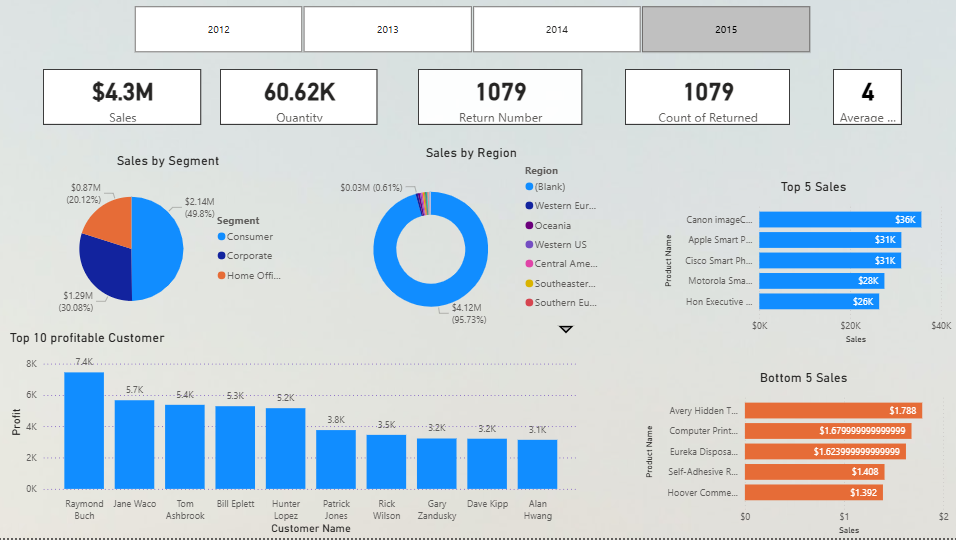

The page's visual inventory and layout, read from the dashboard file:
{"tool":"powerbi","page":{"name":"Page 1","canvas":[1280,720],"ordinal":0},"visuals":[{"type":"card","fields":{"Values":["Sum(Orders.Sales)"]},"box":[70.5,105.8,207.2,73.5],"z":0},{"type":"card","fields":{"Values":["Sum(Orders.Quantity)"]},"box":[302.7,105.8,205.7,73.5],"z":1000},{"type":"card","fields":{"Values":["Avg(Orders.Delivery Day)"]},"box":[1105,105.8,89.6,73.5],"z":2000},{"type":"card","fields":{"Values":["Sum(Returns.Return Number)"]},"box":[561.3,105.8,214.5,73.5],"z":3000},{"type":"card","fields":{"Values":["CountNonNull(Returns.Returned)"]},"box":[833.1,105.8,216,73.5],"z":4000},{"type":"slicer","fields":{"Values":["Orders.Order Date.2"]},"box":[164.6,16.8,934,73.9],"z":5000},{"type":"clusteredBarChart","title":"Top 5 Sales","fields":{"Category":["Orders.Product Name"],"Y":["Sum(Orders.Sales)"]},"box":[878,250,402,220],"z":7000},{"type":"clusteredBarChart","title":"Bottom 5 Sales","fields":{"Y":["Sum(Orders.Sales)"],"Category":["Orders.Product Name"]},"box":[854,500,426,220],"z":8000},{"type":"pieChart","fields":{"Category":["Orders.Segment"],"Y":["Sum(Orders.Sales)"]},"box":[70,216,330,232],"z":9000},{"type":"donutChart","fields":{"Category":["People.Region"],"Y":["Sum(Orders.Sales)"]},"box":[450,206,362,254],"z":10000},{"type":"clusteredColumnChart","title":"Top 10 profitable Customer","fields":{"Category":["Orders.Customer Name"],"Y":["Sum(Orders.Profit)"]},"box":[22,448,754,272],"z":11000}]}

Visuals, with their boxes in screenshot pixels (x1, y1, x2, y2), scaled from the page's 1280x720 canvas onto the 956x540 screenshot:
card - Sum(Orders.Sales): [53,79,207,134]
card - Sum(Orders.Quantity): [226,79,380,134]
card - Avg(Orders.Delivery Day): [825,79,892,134]
card - Sum(Returns.Return Number): [419,79,579,134]
card - CountNonNull(Returns.Returned): [622,79,784,134]
slicer - Orders.Order Date.2: [123,13,821,68]
"Top 5 Sales" clusteredBarChart: [656,188,955,352]
"Bottom 5 Sales" clusteredBarChart: [638,375,955,539]
pieChart - Orders.Segment x Sum(Orders.Sales): [52,162,299,336]
donutChart - People.Region x Sum(Orders.Sales): [336,154,606,345]
"Top 10 profitable Customer" clusteredColumnChart: [16,336,580,539]
